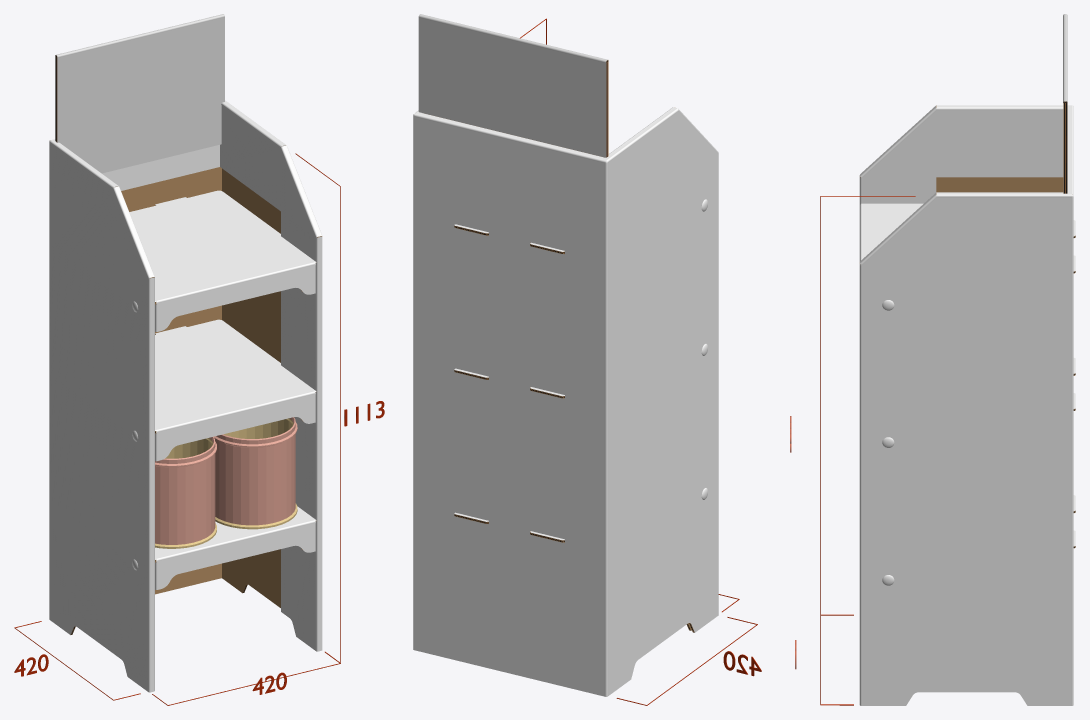
The model's file is PANETONE.glb.
3 renders of one model, left to right at view 1: azimuth 30°, elevation 25°; view 2: azimuth 150°, elevation 25°; view 3: azimuth 270°, elevation 25°, orthographic. The views are drawn at different scales.
Parts seen in each view (by area): view 1: TQ_ARD-node, TQ_ARD-node.004, TQ_ARD-node.001, TQ_ARD-node.002, Circle.002, Circle, TQ_ARD-node.003; view 2: TQ_ARD-node, TQ_ARD-node.004; view 3: TQ_ARD-node, TQ_ARD-node.001, TQ_ARD-node.004, Plano.002.
Boxes of the visible parts, box(x1,y1,x2,y2) form: TQ_ARD-node: box(49, 100, 322, 692); TQ_ARD-node.004: box(55, 14, 224, 173); TQ_ARD-node.001: box(129, 190, 316, 331); TQ_ARD-node.002: box(155, 319, 316, 461); Circle.002: box(214, 417, 297, 529); Circle: box(155, 436, 216, 548); TQ_ARD-node.003: box(155, 506, 316, 589); TQ_ARD-node: box(413, 107, 718, 696); TQ_ARD-node.004: box(418, 14, 608, 157); TQ_ARD-node: box(859, 105, 1073, 705); TQ_ARD-node.001: box(860, 203, 1075, 273); TQ_ARD-node.004: box(1063, 14, 1067, 193); Plano.002: box(820, 196, 915, 704).
Size of the model in its own units: 0.7034 by 1.32 by 0.5646.
11 materials, 4 textured.
